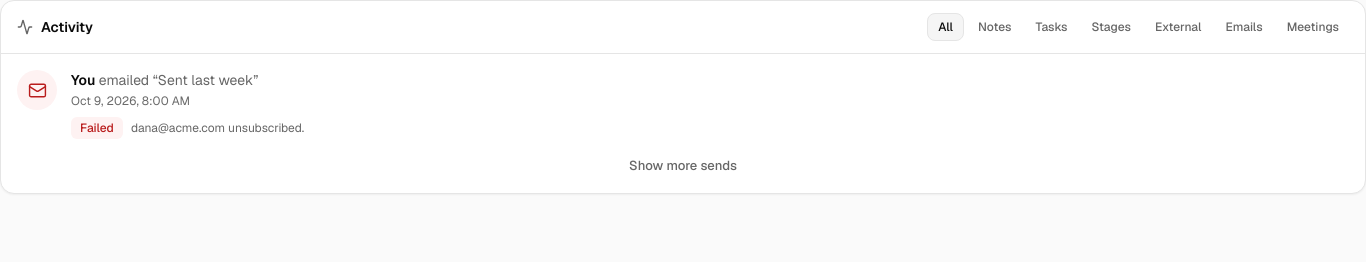
Test case: #104: a record’s sends come from the server, a page at a time › offers “Show more sends” while the API has a next page, and reads it with the cursor
Click the button "Show more sends" at (683, 166), box [618, 151, 748, 181]
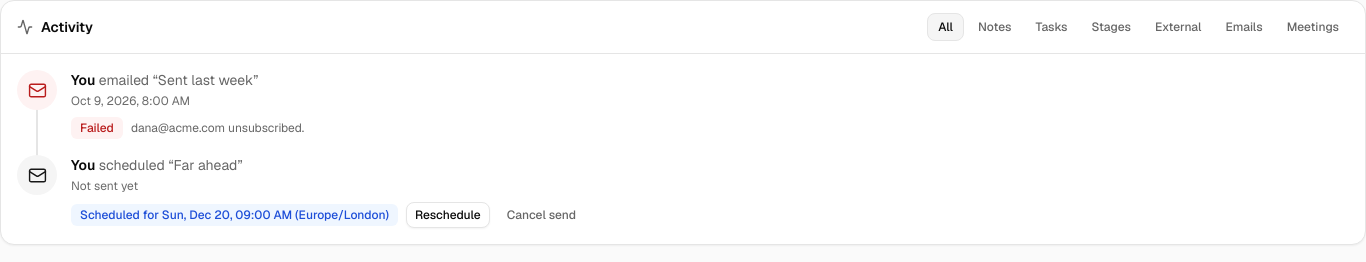
expect the text "scheduled “Far ahead”" is shown: met, box [99, 156, 243, 174]
expect the button "Show more sends" is gone: met
